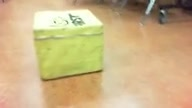cube: (31, 8, 105, 81)
